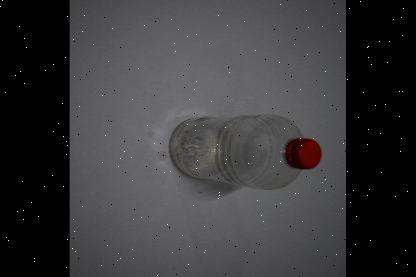Plastic Bottle: (170, 114, 322, 189)
